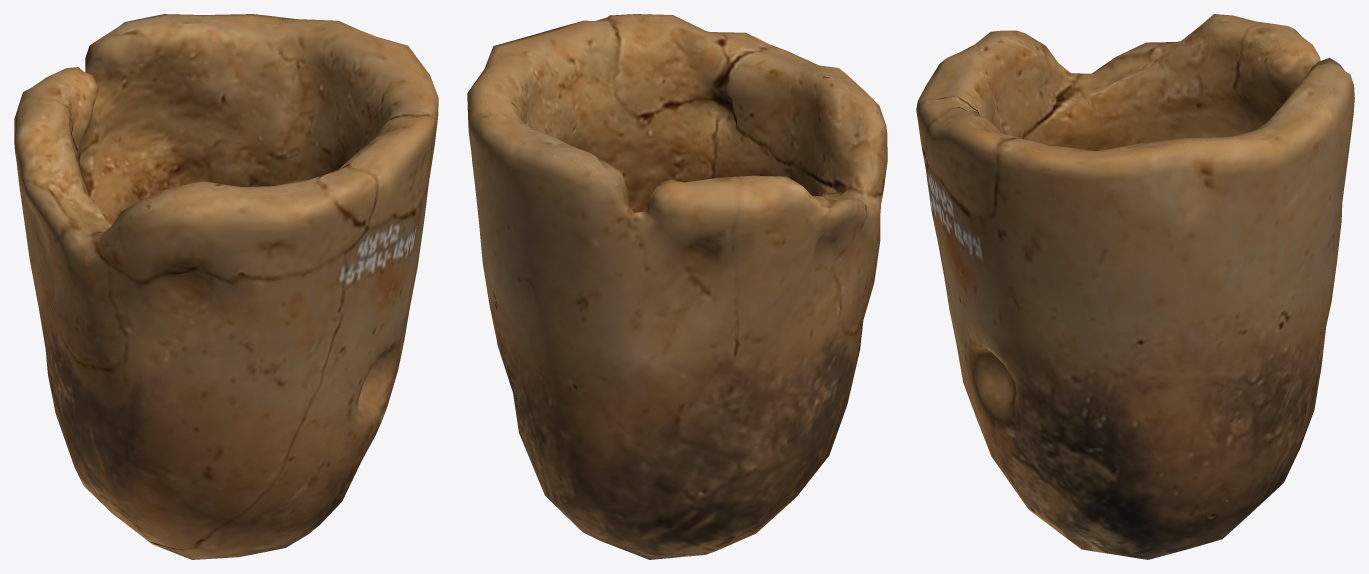
File: antiquity2_26.fbx
3 views of the same model, side by side, from view 1: azimuth 30°, elevation 25°; view 2: azimuth 150°, elevation 25°; view 3: azimuth 270°, elevation 25° (orthographic). The views are drawn at different scales.
Parts seen in each view (by area): view 1: 0548; view 2: 0548; view 3: 0548.
Boxes of the visible parts, x1,y1,x2,y2 form: 0548: [14, 14, 438, 559]; 0548: [467, 14, 887, 559]; 0548: [916, 14, 1354, 559].
Bounding box in the file's own units: 32.86 × 38.87 × 32.48.
1 material, 1 textured.
